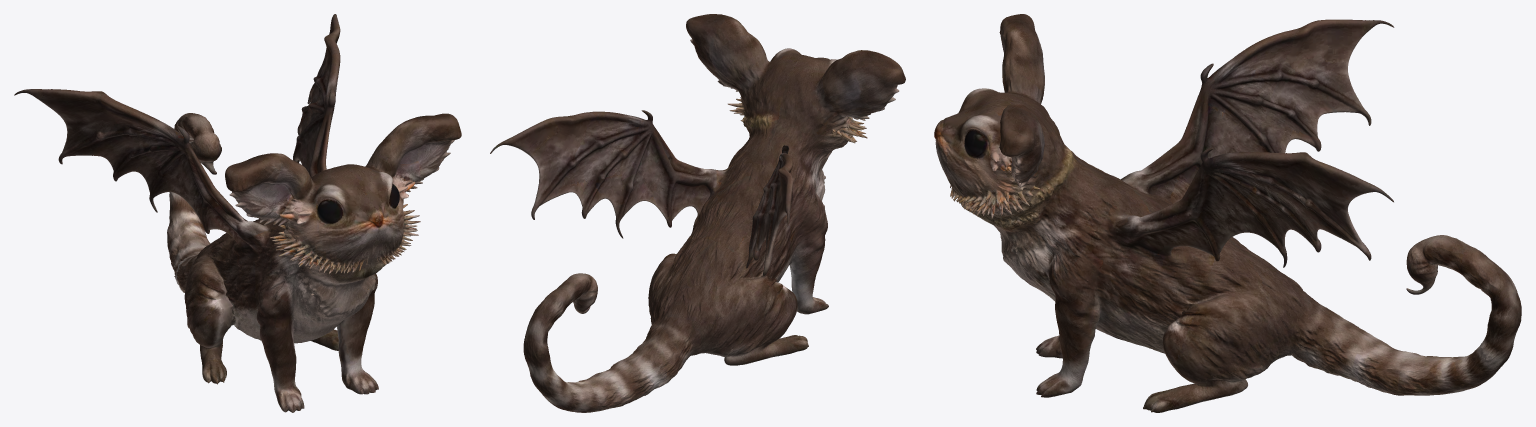
Rendered from Meshy_AI_Whiskerwing_0813141629_texture-compressed-compressed.glb.
3 renders of one model, left to right at view 1: azimuth 30°, elevation 25°; view 2: azimuth 150°, elevation 25°; view 3: azimuth 270°, elevation 25°, orthographic. The views are drawn at different scales.
Visible parts, largest first — view 1: mesh_node; view 2: mesh_node; view 3: mesh_node.
Boxes of the visible parts, box(x1,y1,x2,y2) form: mesh_node: box(14, 14, 461, 412); mesh_node: box(490, 14, 905, 412); mesh_node: box(934, 14, 1521, 412).
Bounding box in the file's own units: 1.34 × 1.1 × 1.9.
1 material, 1 textured.
